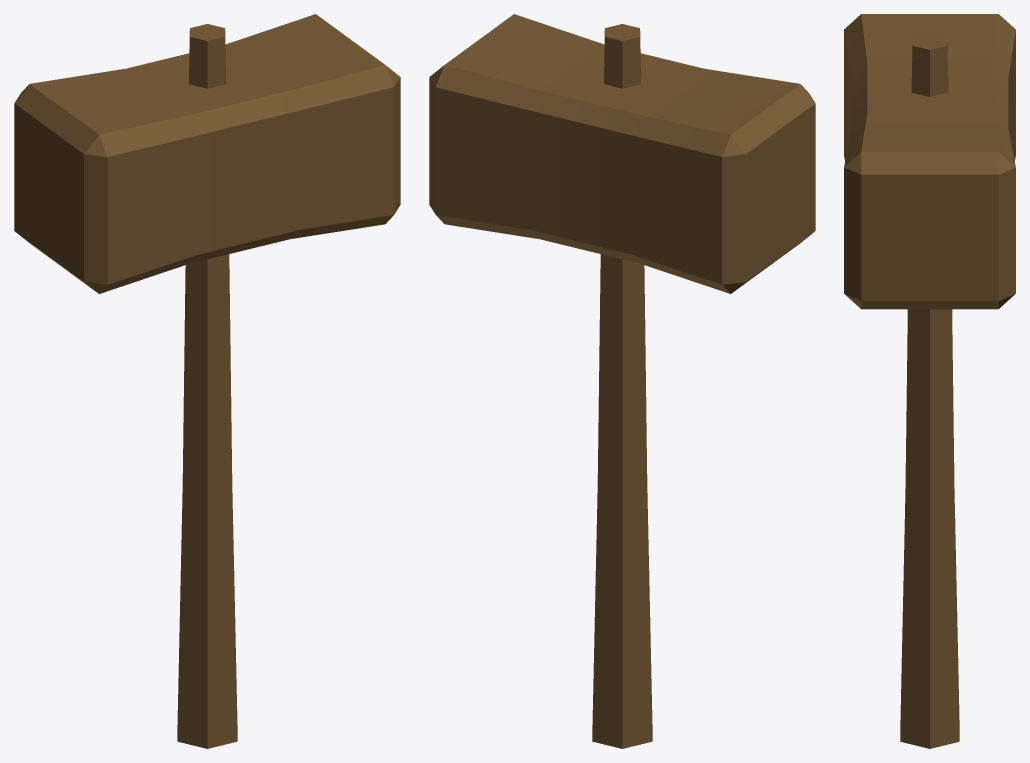
Rendered from Mallet.fbx.
3 views of the same model, side by side, from view 1: azimuth 30°, elevation 25°; view 2: azimuth 150°, elevation 25°; view 3: azimuth 270°, elevation 25° (orthographic).
Parts seen in each view (by area): view 1: Mallet; view 2: Mallet; view 3: Mallet.
Part boxes in pixels (x1,y1,x2,y2): Mallet: [14, 14, 400, 748]; Mallet: [429, 14, 815, 748]; Mallet: [844, 14, 1015, 748].
Size of the model in its own units: 0.4909 by 1.04 by 0.2339.
